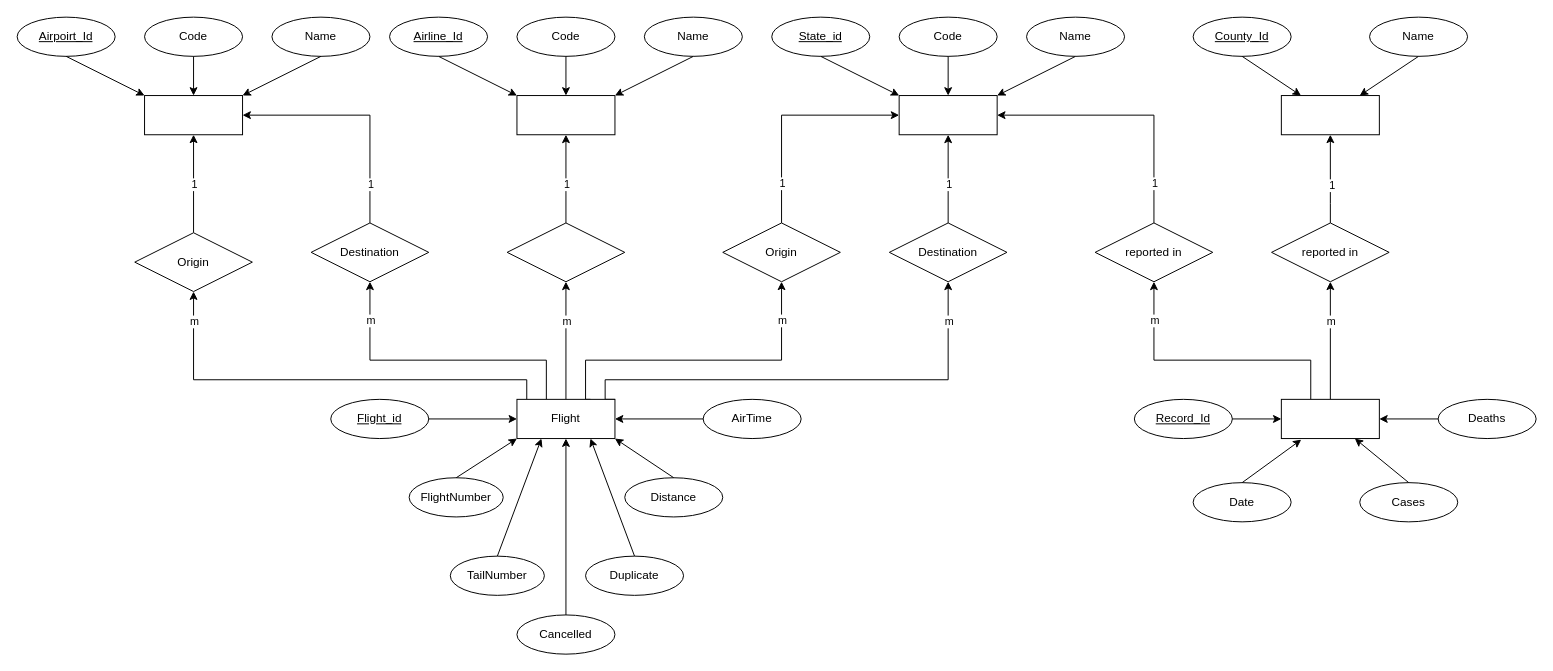
This 1553x671 diagram has some shape labels left out. The centre of each missing label's shape, as x and y in pixels:
"Airline" belongs at point (565, 115).
"Airport" belongs at point (193, 115).
"County" belongs at point (1329, 115).
"CovidCaseRecord" belongs at point (1329, 418).
"flown by" belongs at point (565, 252).
"State" belongs at point (947, 115).
